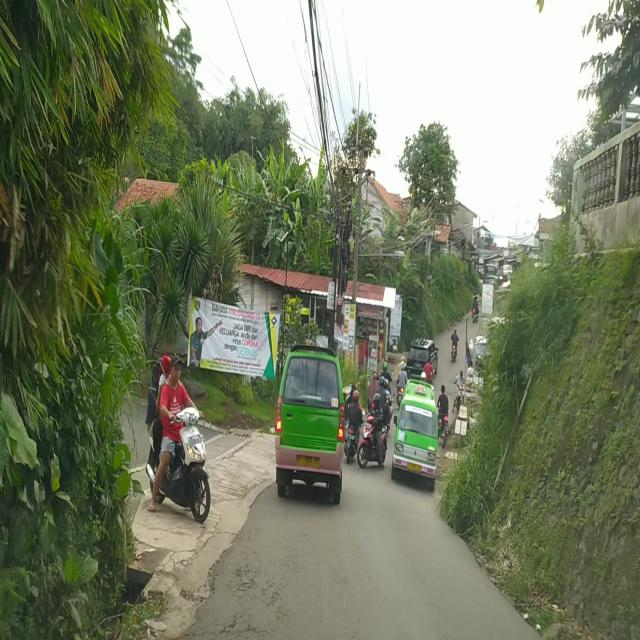Drain Hole: (224, 560, 293, 636)
